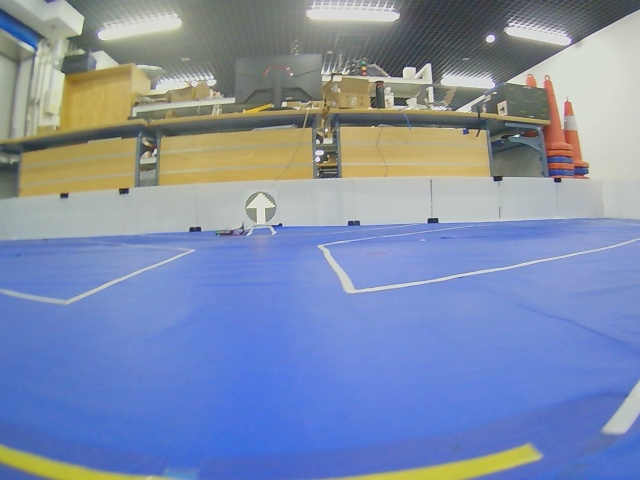straight_yellow: (245, 192, 276, 224)
